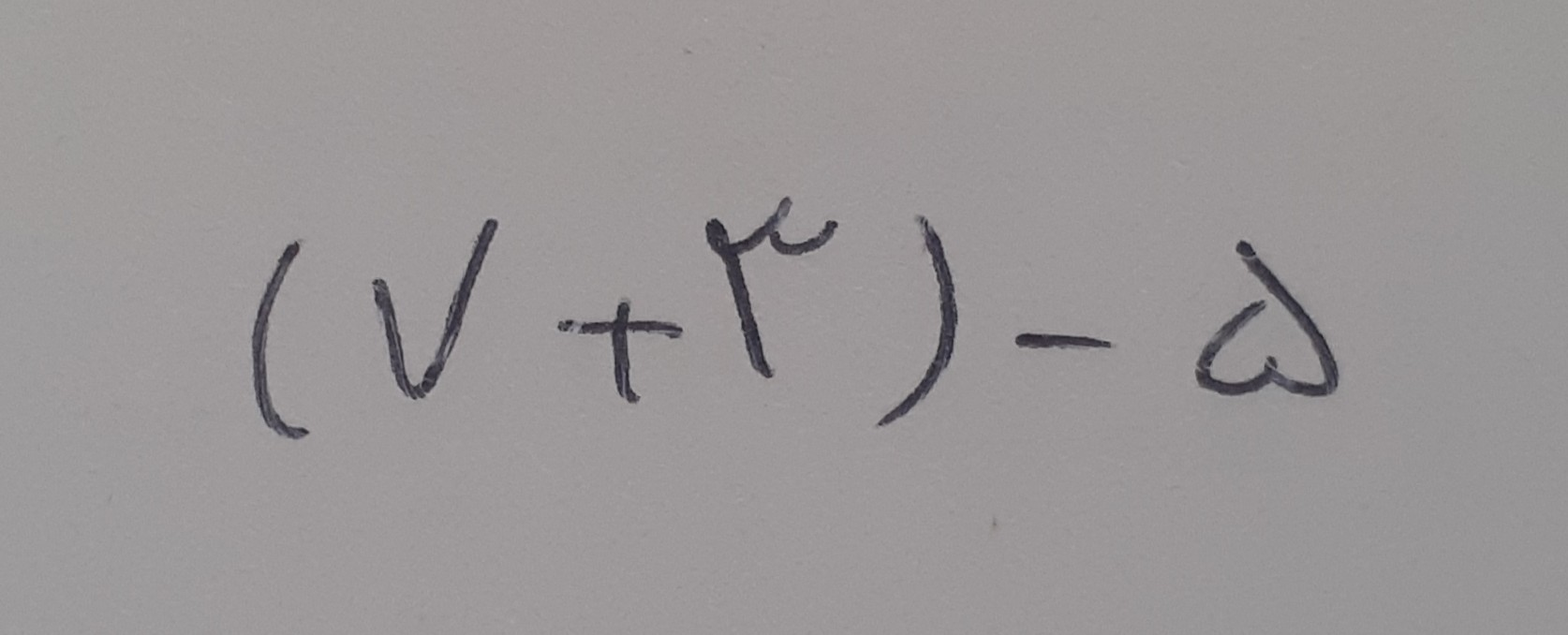character: (706, 196, 840, 379), (1195, 240, 1339, 398), (374, 217, 499, 398), (874, 214, 959, 429), (556, 299, 684, 404), (251, 240, 311, 441), (1012, 331, 1113, 352)
